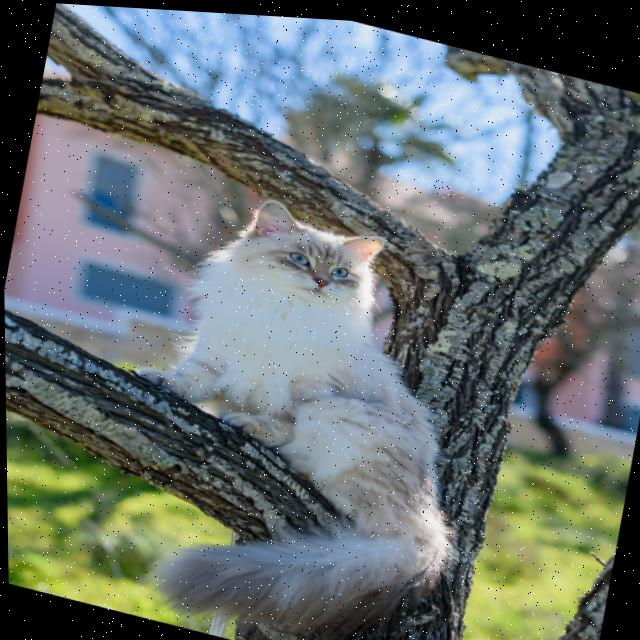Neva Masquerade: (83, 160, 514, 640)
